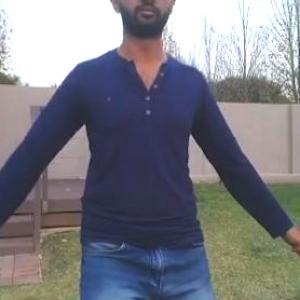land: (1, 0, 284, 299)
